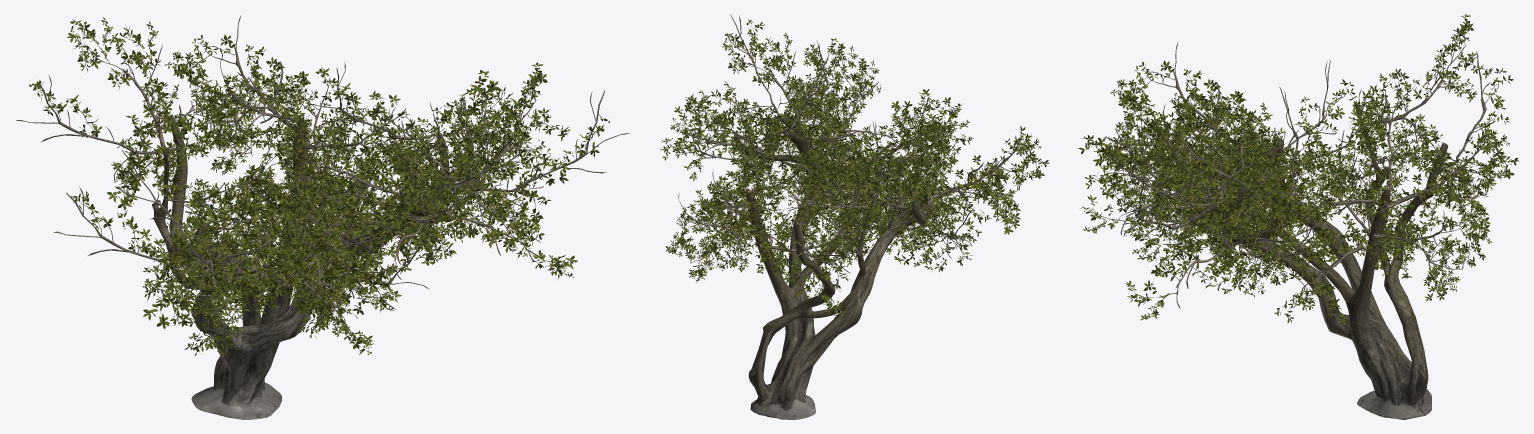
File: island_tree_02.glb
3 views of the same model, side by side, from view 1: azimuth 30°, elevation 25°; view 2: azimuth 150°, elevation 25°; view 3: azimuth 270°, elevation 25° (orthographic). The views are drawn at different scales.
Visible parts, largest first — view 1: island_tree_02_LOD0; view 2: island_tree_02_LOD0; view 3: island_tree_02_LOD0.
Part boxes in pixels (x1=…): island_tree_02_LOD0: x1=16, y1=15, x2=630, y2=419; island_tree_02_LOD0: x1=660, y1=14, x2=1049, y2=419; island_tree_02_LOD0: x1=1078, y1=14, x2=1518, y2=419.
Size of the model in its own units: 4.21 by 3.41 by 4.07.
Materials: 3 (3 with a texture image).
